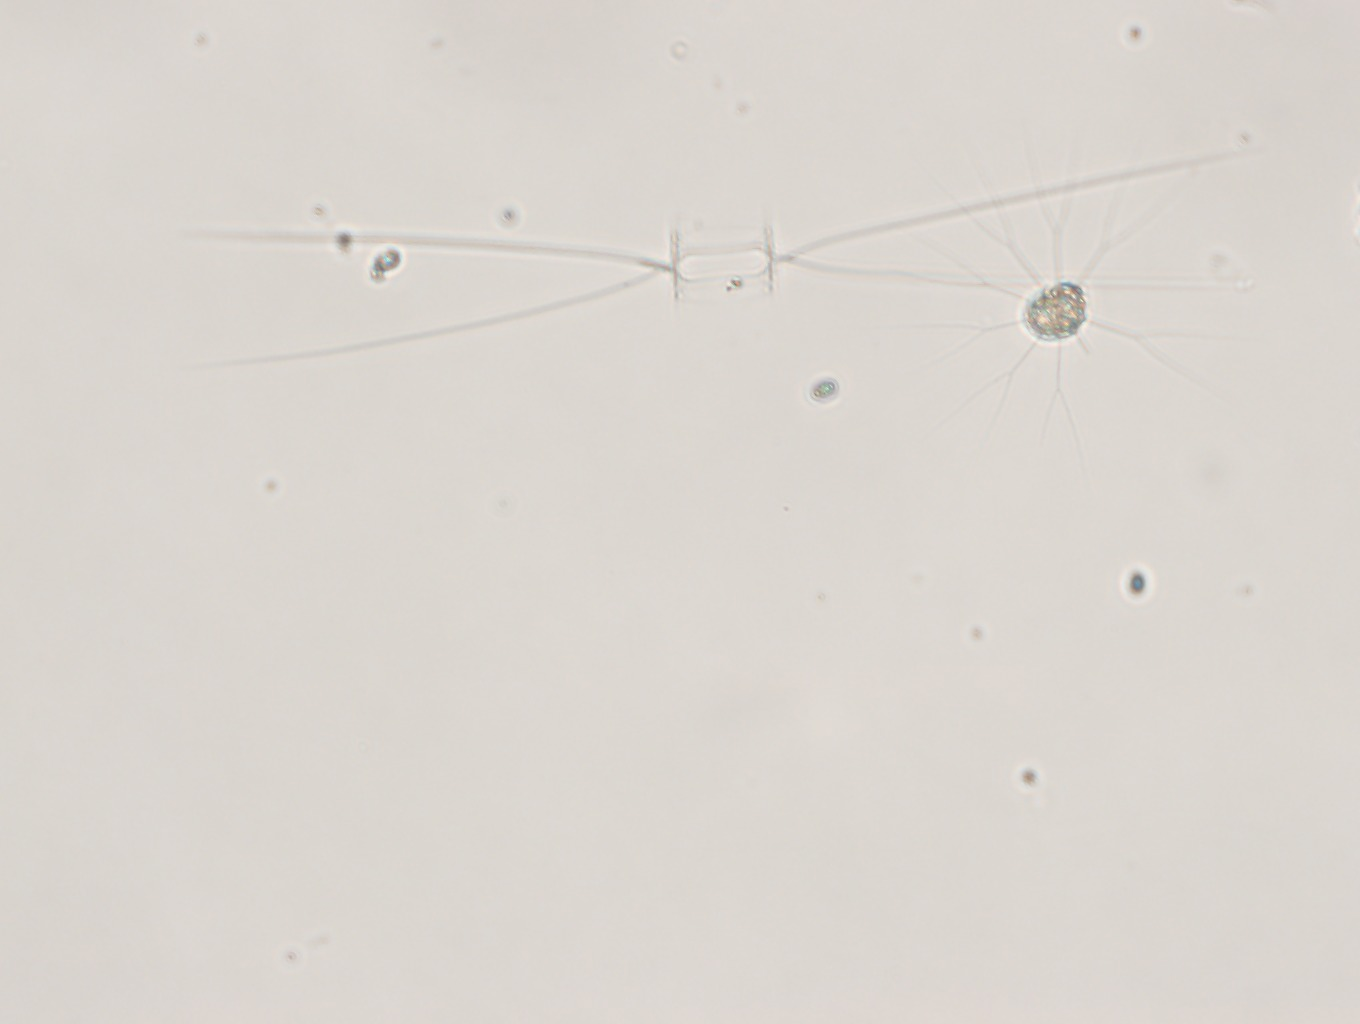bacteriastrum: (902, 150, 1239, 465)
chaetoceros: (160, 172, 1239, 371)
